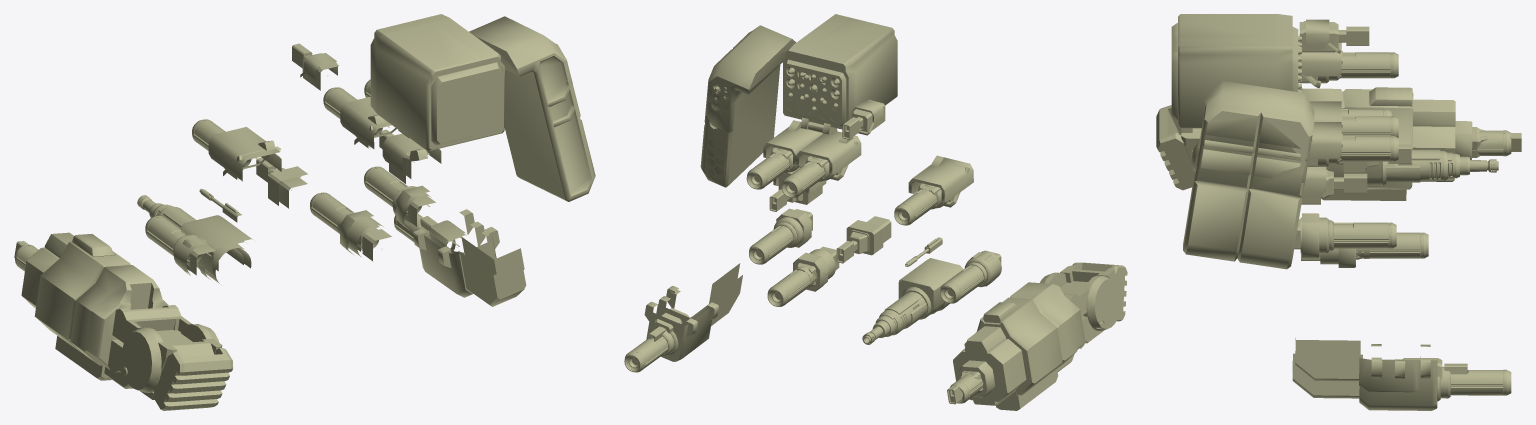
Rendered from BansheeWeapons.glb.
3 renders of one model, left to right at view 1: azimuth 30°, elevation 25°; view 2: azimuth 150°, elevation 25°; view 3: azimuth 270°, elevation 25°, orthographic. The views are drawn at different scales.
Visible parts, largest first — view 1: Forearm_Left_EH1_Blank, Torso_Right_MH1_Missile10, Upperarm_Right_MH1_Missile10, Forearm_Left_EH1_Laser, Forearm_Right_EH1_PPC, Upperarm_Right_MH1_Missile4, Forearm_Left_EH1_PPC, Torso_Right_MH1_Missile20, Torso_Right_MH1_Missile6, Torso_Left_EH3_Flamer, Torso_Right_MH1_Missile5, Torso_Left_EH3_PPC (+19 smaller); view 2: Forearm_Left_EH1_Blank, Upperarm_Right_MH1_Missile10, Torso_Right_MH1_Missile10, Torso_Right_MH1_Missile15, Forearm_Right_EH1_PPC, Torso_Left_EH3_PPC, Forearm_Left_EH1_Flamer, Torso_Right_MH1_Missile6, Forearm_Left_EH1_Laser, Torso_Left_EH2_PPC, Torso_Left_BH1_AC20, Torso_Right_EH2_PPC (+22 smaller); view 3: Upperarm_Right_MH1_Missile10, Forearm_Left_EH1_Flamer, Forearm_Right_EH1_PPC, Torso_Right_MH1_Missile15, Forearm_Right_EH1_Flamer, Upperarm_Right_MH1_Missile2, Torso_Right_MH1_Missile20, Torso_Right_MH1_Missile10, Forearm_Left_EH1_Laser, Upperarm_Right_MH1_Missile5, Torso_Right_EH2_PPC, Torso_Right_MH1_Missile6 (+25 smaller).
Boxes of the visible parts, x1,y1,x2,y2 form: Forearm_Left_EH1_Blank: (21, 234, 232, 409); Torso_Right_MH1_Missile10: (372, 14, 503, 151); Upperarm_Right_MH1_Missile10: (469, 16, 595, 201); Forearm_Left_EH1_Laser: (42, 232, 233, 410); Forearm_Right_EH1_PPC: (394, 209, 526, 306); Upperarm_Right_MH1_Missile4: (475, 35, 570, 106); Forearm_Left_EH1_PPC: (14, 244, 230, 410); Torso_Right_MH1_Missile20: (377, 14, 504, 150); Torso_Right_MH1_Missile6: (392, 18, 481, 136); Torso_Left_EH3_Flamer: (208, 127, 281, 181); Torso_Right_MH1_Missile5: (444, 60, 485, 147); Torso_Left_EH3_PPC: (192, 119, 279, 179); Forearm_Left_EH1_Blank: (953, 262, 1127, 410); Upperarm_Right_MH1_Missile10: (700, 25, 791, 187); Torso_Right_MH1_Missile10: (786, 14, 897, 110); Torso_Right_MH1_Missile15: (783, 50, 859, 134); Forearm_Right_EH1_PPC: (624, 275, 742, 372); Torso_Left_EH3_PPC: (894, 155, 973, 225); Forearm_Left_EH1_Flamer: (947, 262, 1114, 404); Torso_Right_MH1_Missile6: (799, 17, 879, 133); Forearm_Left_EH1_Laser: (959, 262, 1125, 397); Torso_Left_EH2_PPC: (940, 251, 1001, 303); Torso_Left_BH1_AC20: (879, 265, 963, 335); Torso_Right_EH2_PPC: (749, 217, 803, 264); Upperarm_Right_MH1_Missile10: (1183, 81, 1314, 269); Forearm_Left_EH1_Flamer: (1157, 87, 1521, 200); Forearm_Right_EH1_PPC: (1292, 344, 1511, 410); Torso_Right_MH1_Missile15: (1171, 36, 1301, 128); Forearm_Right_EH1_Flamer: (1295, 338, 1467, 390); Upperarm_Right_MH1_Missile2: (1199, 92, 1311, 161); Torso_Right_MH1_Missile20: (1171, 14, 1298, 127); Torso_Right_MH1_Missile10: (1171, 14, 1298, 89); Forearm_Left_EH1_Laser: (1156, 87, 1480, 183); Upperarm_Right_MH1_Missile5: (1195, 93, 1307, 183); Torso_Right_EH2_PPC: (1300, 217, 1396, 253); Torso_Right_MH1_Missile6: (1171, 21, 1301, 90).
Bounding box in the file's own units: 1.85 × 1.29 × 1.31.
